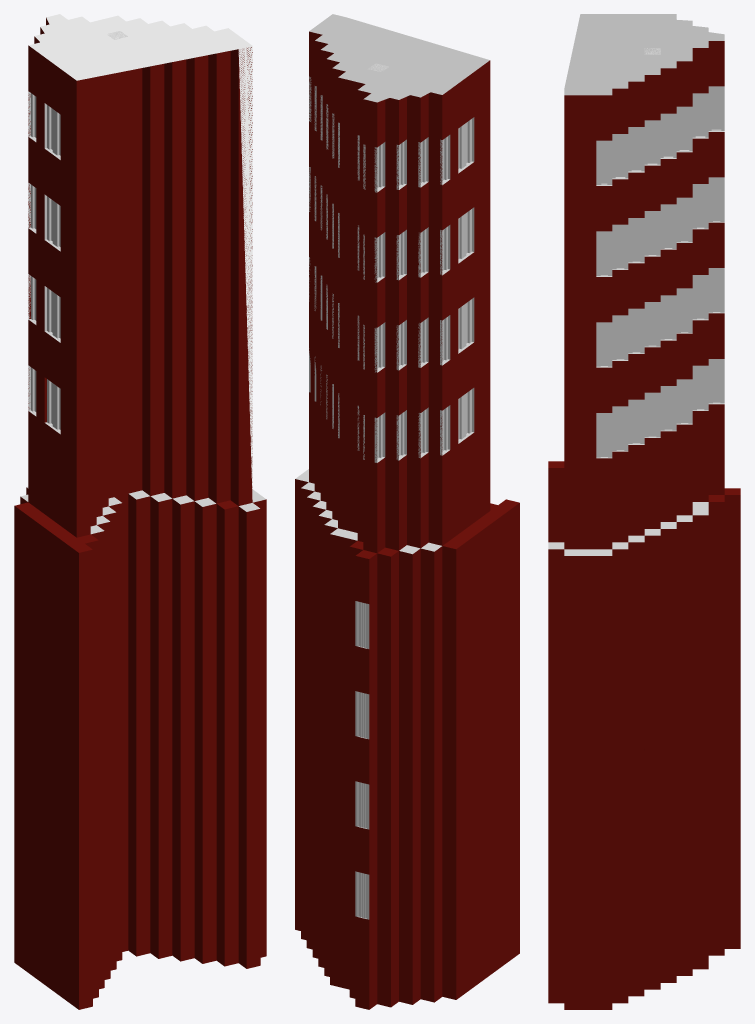
File: 3_runcorn_street.fbx
The picture shows the model from 3 angles, left to right: view 1: azimuth 30°, elevation 25°; view 2: azimuth 150°, elevation 25°; view 3: azimuth 270°, elevation 25°; orthographic projection.
Parts seen in each view (by area): view 1: Plane; view 2: Plane; view 3: Plane.
Part boxes in pixels (x1,y1,x2,y2): Plane: [14, 14, 266, 1009]; Plane: [295, 14, 519, 1009]; Plane: [548, 14, 740, 1009].
Bounding box in the file's own units: 224 × 1000 × 192.
